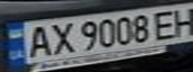0: (115, 13, 136, 46), (97, 16, 118, 48)
8: (130, 11, 154, 44)
9: (75, 17, 100, 52)
A: (21, 22, 54, 58)
E: (148, 7, 184, 40)
H: (169, 3, 193, 37)
X: (45, 20, 78, 56)
